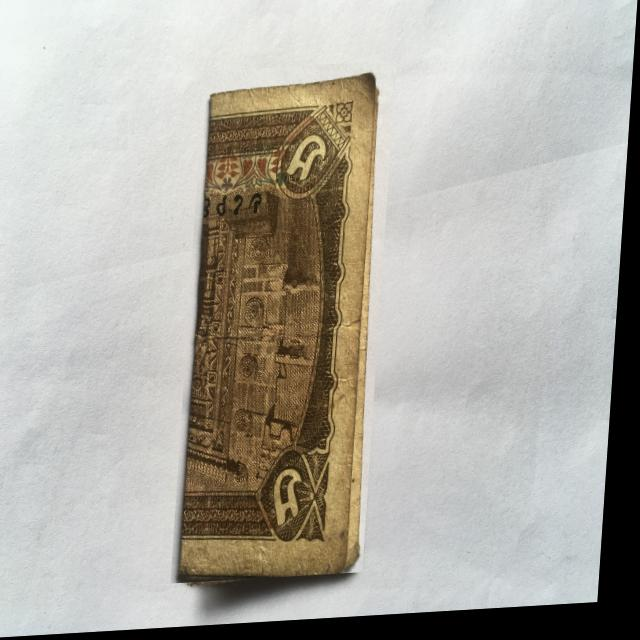Taka: (179, 66, 398, 587)
